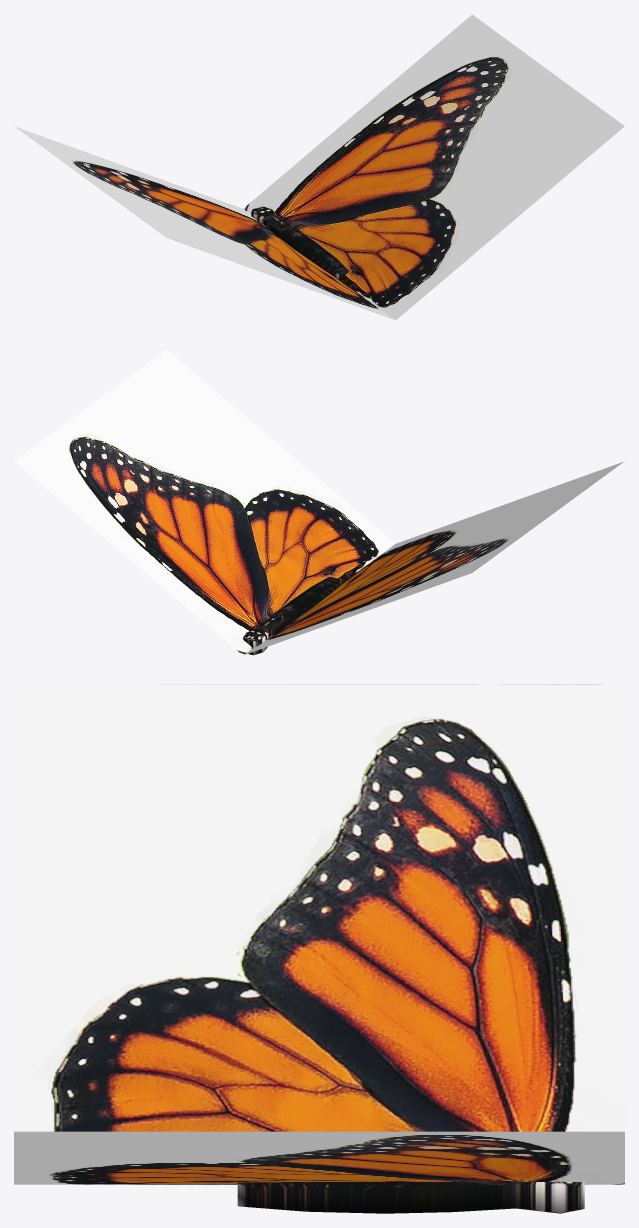
The model's file is MonarchButterfly.fbx.
The picture shows the model from 3 angles, top to bottom: view 1: azimuth 30°, elevation 25°; view 2: azimuth 150°, elevation 25°; view 3: azimuth 270°, elevation 25°; orthographic projection. The views are drawn at different scales.
Parts seen in each view (by area): view 1: WingRight, WingLeft, Body; view 2: WingRight, WingLeft, Body; view 3: WingLeft, WingRight, Body.
Part boxes in pixels (x1,y1,x2,y2): WingRight: [243, 14, 624, 320]; WingLeft: [14, 126, 394, 319]; Body: [251, 206, 348, 279]; WingRight: [14, 349, 395, 655]; WingLeft: [244, 461, 624, 654]; Body: [242, 577, 340, 655]; WingLeft: [14, 684, 624, 1131]; WingRight: [14, 1131, 624, 1184]; Body: [237, 1181, 584, 1213].
Bounding box in the file's own units: 15.95 × 4.92 × 9.21.
3 materials, 3 textured.
